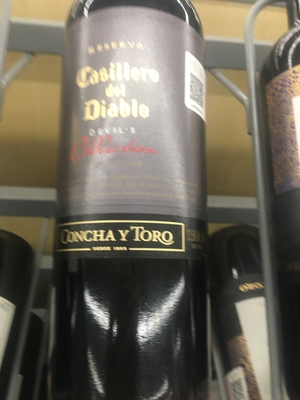casillero del diablo devils collection rojo: (55, 5, 214, 388)
